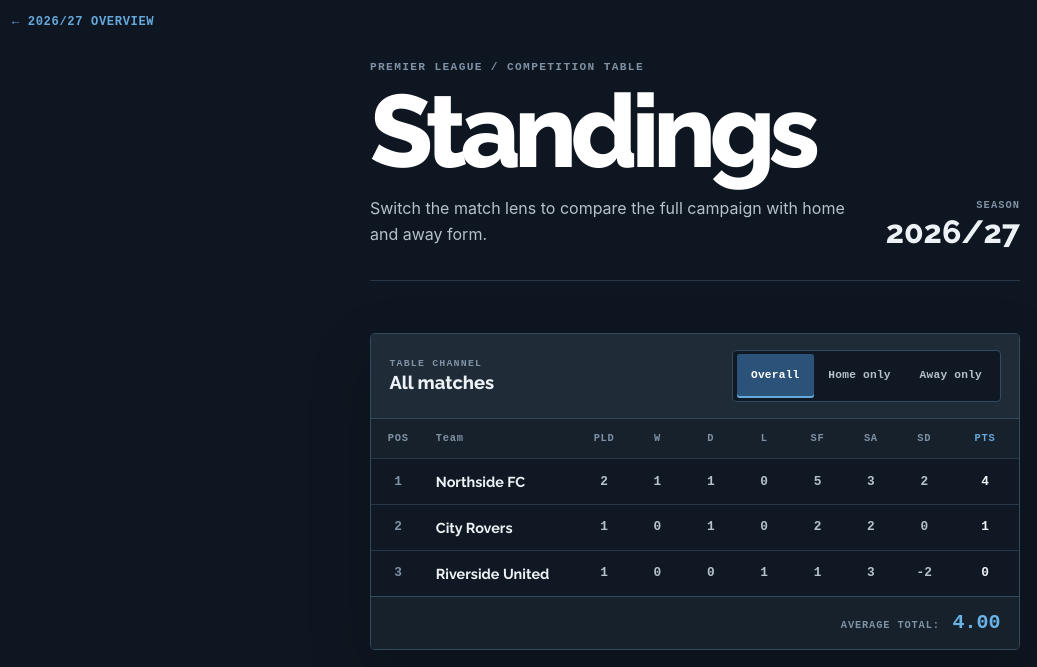
Scenario: season table view › switches between independently filtered home and away tables
What coordinates should you click on to do the following:
click the button "Home only"
I would click on:
 (860, 376)
Its box is x1=814 y1=354 x2=905 y2=398.
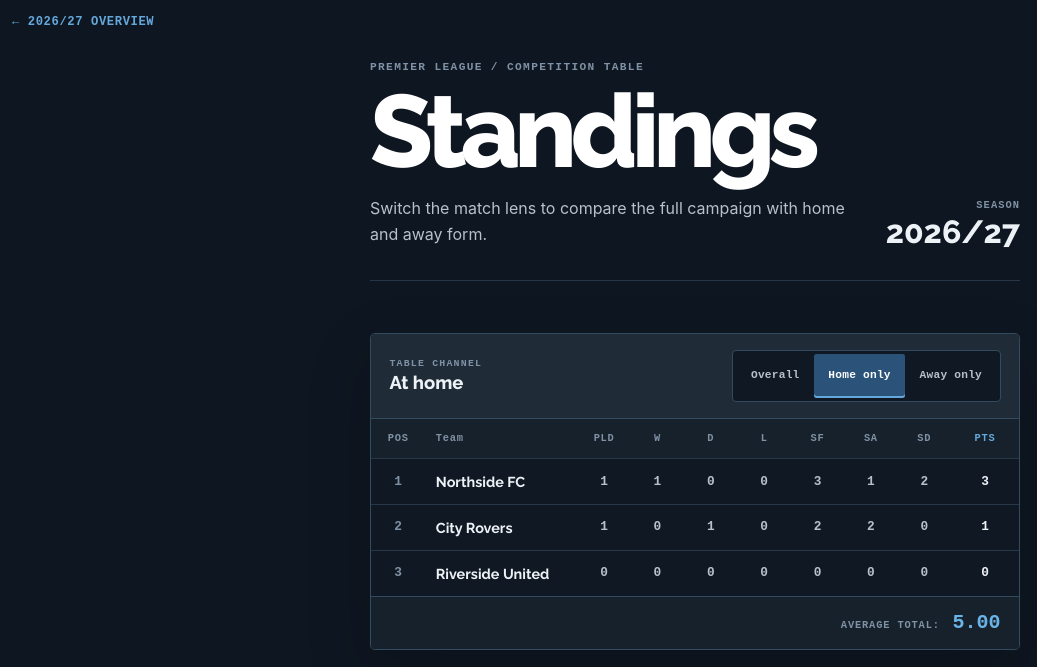
Expected: the row "1 Northside FC 1 1 0 0 3 1 2 3" is shown, x1=371 y1=459 x2=1019 y2=505
Expected: the row "3 Riverside United 0 0 0 0 0 0 0 0" is shown, x1=371 y1=551 x2=1019 y2=596
What coordinates should you click on to do the following:
click the button "Away only"
I would click on:
 (951, 376)
Its box is x1=905 y1=354 x2=996 y2=398.
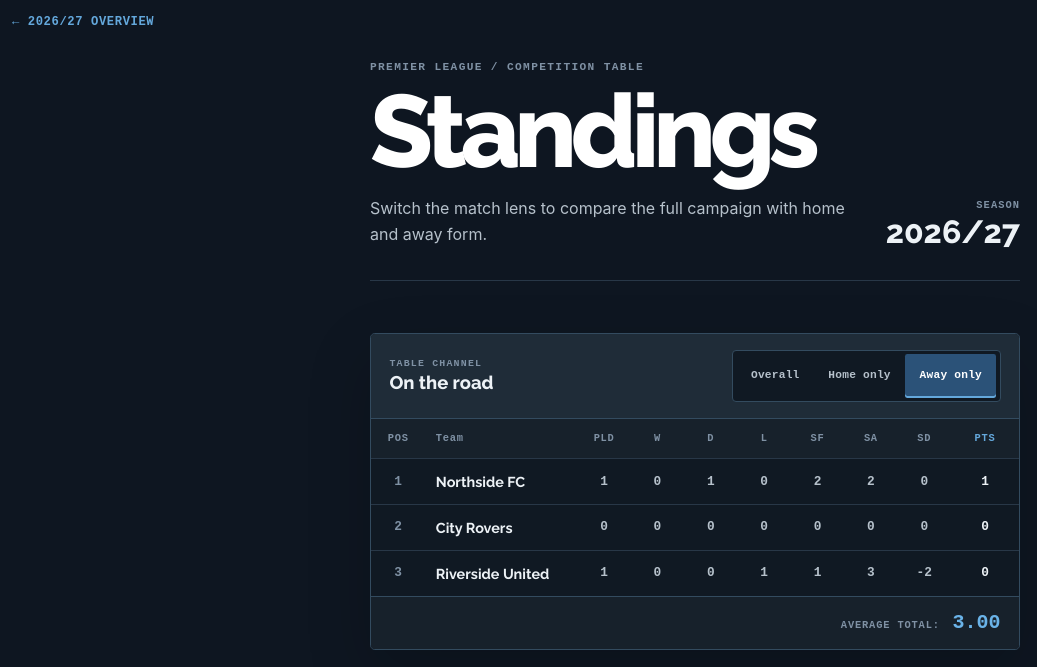
Expected: the row "1 Northside FC 1 0 1 0 2 2 0 1" is shown, x1=371 y1=459 x2=1019 y2=505
Expected: the row "3 Riverside United 1 0 0 1 1 3 -2 0" is shown, x1=371 y1=551 x2=1019 y2=596
